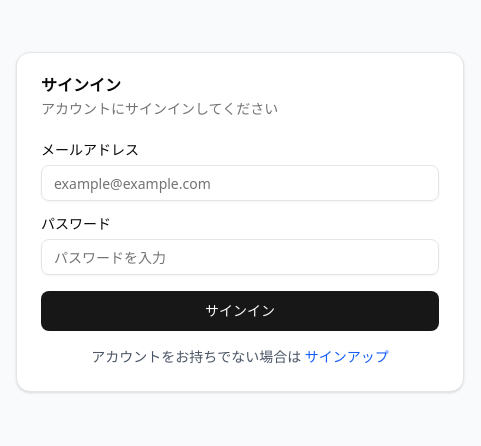
Test: SignInPage › should show error message on failed sign in
The width and height of the screenshot is (481, 446).
In the field labelled "メールアドレス": (240, 183) [41,165,439,201], type "test@example.com"
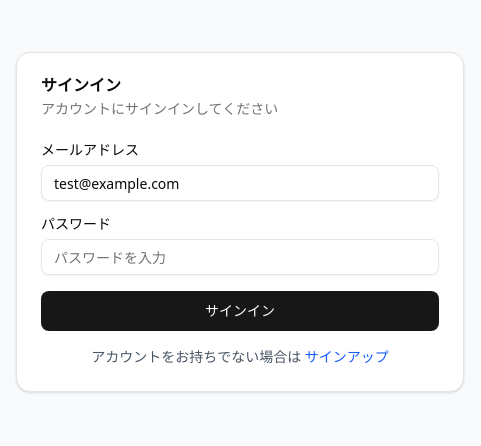
In the password field labelled "パスワード": (240, 257) [41,239,439,275], type "wrongpassword"
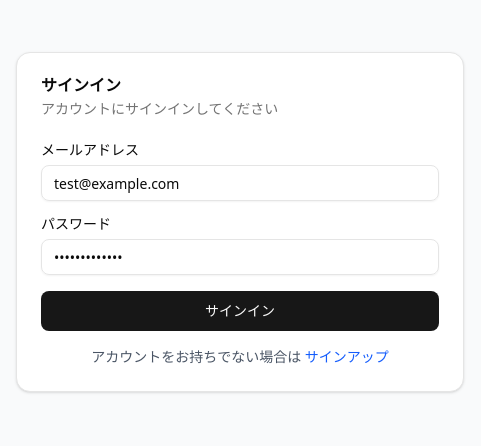
Click the button "サインイン": (240, 311) [41,291,439,331]
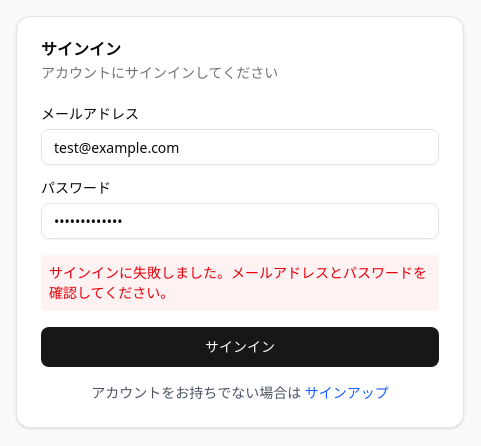
expect the text "サインインに失敗しました。メールアドレスとパスワードを確認してください。" is shown: met, box [41,255,439,311]
